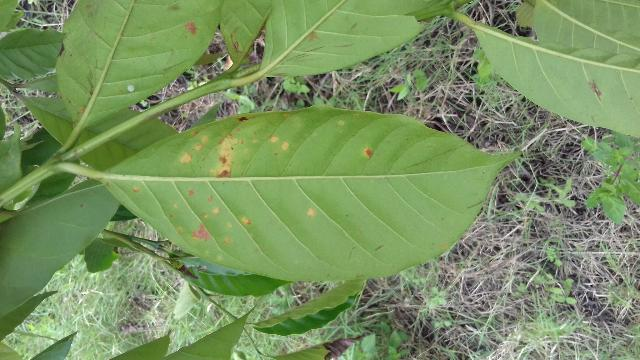rust_level_2: (74, 100, 534, 288)
